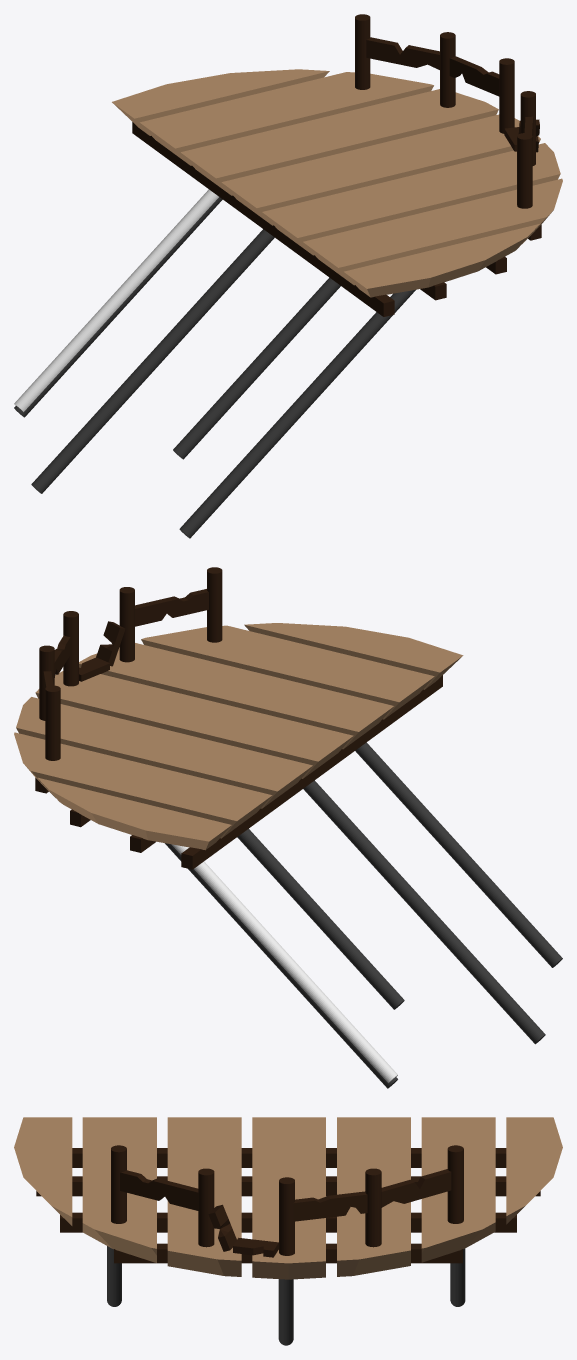
Rendered from wood platform.glb.
3 renders of one model, top to bottom at view 1: azimuth 30°, elevation 25°; view 2: azimuth 150°, elevation 25°; view 3: azimuth 270°, elevation 25°, orthographic. The views are drawn at different scales.
Visible parts, largest first — view 1: Circle, Circle.002, Circle.003, Circle.005, Circle.001, Cube.001, Cube.006, Circle.004, Cylinder.003, Cylinder.001, Cylinder.004, Cube.007 (+2 smaller); view 2: Circle, Circle.002, Circle.003, Circle.005, Circle.001, Cube.001, Circle.004, Cube.005, Cylinder.004, Cylinder.003, Cylinder, Cylinder.001 (+2 smaller); view 3: Circle, Cube.005, Cube.003, Cube.007, Cube.006, Cube.004, Cube.001, Cylinder.002, Cylinder, Cylinder.004, Cylinder.001, Cylinder.003 (+6 smaller).
Boxes of the visible parts, bbox=[...] form: Circle: bbox=[112, 69, 562, 297]; Circle.002: bbox=[31, 229, 274, 493]; Circle.003: bbox=[179, 289, 415, 538]; Circle.005: bbox=[14, 189, 218, 411]; Circle.001: bbox=[173, 277, 340, 459]; Cube.001: bbox=[132, 122, 394, 316]; Cube.006: bbox=[366, 37, 440, 69]; Circle.004: bbox=[14, 197, 222, 417]; Cylinder.003: bbox=[517, 133, 532, 208]; Cylinder.001: bbox=[499, 58, 514, 133]; Cylinder.004: bbox=[355, 14, 370, 89]; Cube.007: bbox=[449, 56, 499, 96]; Circle: bbox=[14, 623, 463, 850]; Circle.002: bbox=[303, 780, 545, 1044]; Circle.003: bbox=[355, 742, 562, 967]; Circle.005: bbox=[171, 844, 397, 1082]; Circle.001: bbox=[237, 829, 404, 1009]; Cube.001: bbox=[181, 675, 442, 869]; Circle.004: bbox=[164, 843, 397, 1088]; Cube.005: bbox=[135, 589, 208, 626]; Cylinder.004: bbox=[45, 685, 60, 760]; Cylinder.003: bbox=[207, 567, 222, 642]; Cylinder: bbox=[119, 587, 134, 662]; Cylinder.001: bbox=[63, 611, 78, 686]; Circle: bbox=[14, 1117, 562, 1279]; Cube.005: bbox=[120, 1170, 198, 1210]; Cube.003: bbox=[60, 1212, 516, 1232]; Cube.007: bbox=[293, 1191, 367, 1221]; Cube.006: bbox=[381, 1169, 451, 1207]; Cube.004: bbox=[114, 1243, 462, 1263]; Cube.001: bbox=[72, 1148, 506, 1167]; Cylinder.002: bbox=[365, 1168, 381, 1247]; Cylinder: bbox=[198, 1168, 214, 1247]; Cylinder.004: bbox=[447, 1145, 463, 1223]; Cylinder.001: bbox=[279, 1177, 294, 1255]; Cylinder.003: bbox=[111, 1145, 126, 1223].
Bounding box in the file's own units: 7.38 × 4.52 × 6.82.
